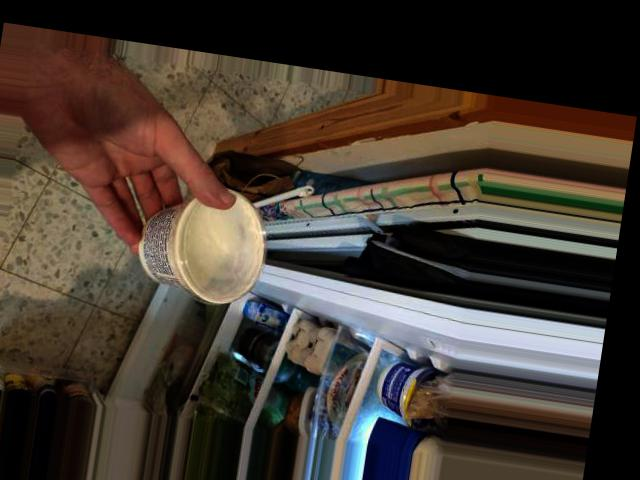cotage: (133, 191, 266, 306)
